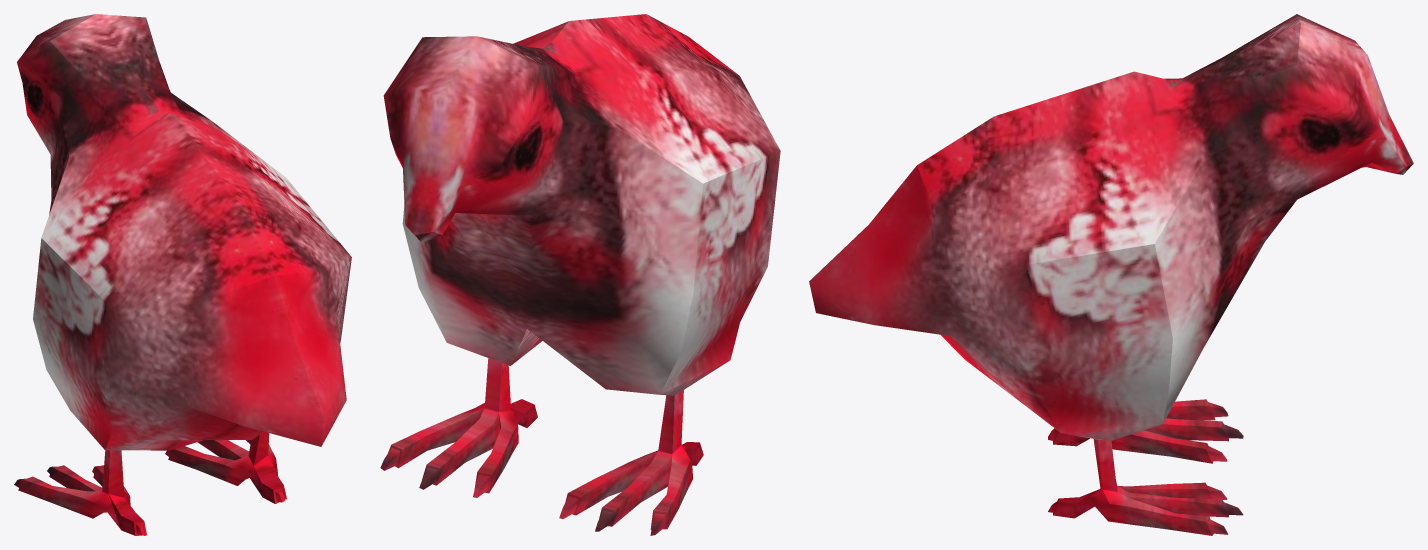
Rendered from rojo.gltf.
The picture shows the model from 3 angles, left to right: view 1: azimuth 30°, elevation 25°; view 2: azimuth 150°, elevation 25°; view 3: azimuth 270°, elevation 25°; orthographic projection. The views are drawn at different scales.
Parts seen in each view (by area): view 1: U3DMesh_mat_3_0; view 2: U3DMesh_mat_3_0; view 3: U3DMesh_mat_3_0.
Boxes of the visible parts, bbox=[...] form: U3DMesh_mat_3_0: bbox=[14, 14, 351, 535]; U3DMesh_mat_3_0: bbox=[380, 14, 780, 535]; U3DMesh_mat_3_0: bbox=[809, 14, 1413, 535].
Bounding box in the file's own units: 0.2473 × 0.4081 × 0.4908.
Materials: 1 (1 with a texture image).
